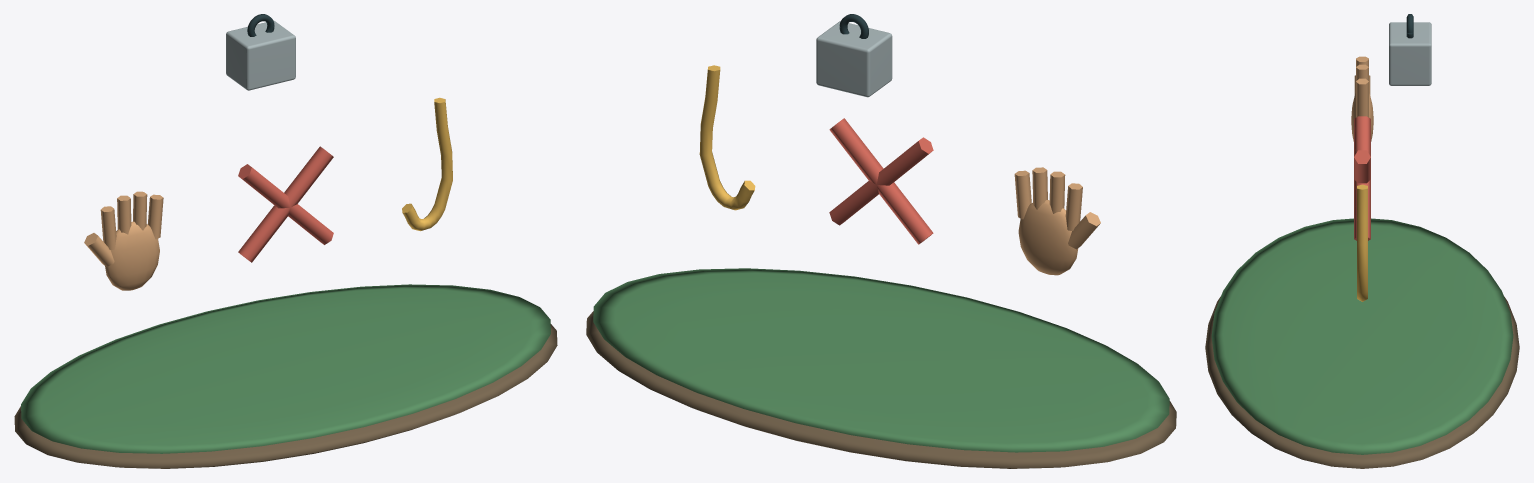
The model's file is complete-third-cannot-accept-finish.glb.
The picture shows the model from 3 angles, left to right: view 1: azimuth 30°, elevation 25°; view 2: azimuth 150°, elevation 25°; view 3: azimuth 270°, elevation 25°; orthographic projection. The views are drawn at different scales.
Parts seen in each view (by area): view 1: complete-third-cannot-accept-finish_surface_01, complete-third-cannot-accept-finish_surface_00, complete-third-cannot-accept-finish_surface_02, complete-third-cannot-accept-finish_surface_03, complete-third-cannot-accept-finish_surface_05, complete-third-cannot-accept-finish_surface_04; view 2: complete-third-cannot-accept-finish_surface_01, complete-third-cannot-accept-finish_surface_00, complete-third-cannot-accept-finish_surface_02, complete-third-cannot-accept-finish_surface_03, complete-third-cannot-accept-finish_surface_05, complete-third-cannot-accept-finish_surface_04; view 3: complete-third-cannot-accept-finish_surface_01, complete-third-cannot-accept-finish_surface_00, complete-third-cannot-accept-finish_surface_05, complete-third-cannot-accept-finish_surface_03, complete-third-cannot-accept-finish_surface_04, complete-third-cannot-accept-finish_surface_02.
Part boxes in pixels (<box>): complete-third-cannot-accept-finish_surface_01: <box>21,284,550,453</box>; complete-third-cannot-accept-finish_surface_00: <box>14,324,557,468</box>; complete-third-cannot-accept-finish_surface_02: <box>84,191,163,290</box>; complete-third-cannot-accept-finish_surface_03: <box>238,146,333,262</box>; complete-third-cannot-accept-finish_surface_05: <box>226,21,295,90</box>; complete-third-cannot-accept-finish_surface_04: <box>402,97,452,231</box>; complete-third-cannot-accept-finish_surface_01: <box>593,268,1169,452</box>; complete-third-cannot-accept-finish_surface_00: <box>586,311,1176,468</box>; complete-third-cannot-accept-finish_surface_02: <box>1014,167,1100,275</box>; complete-third-cannot-accept-finish_surface_03: <box>829,118,933,244</box>; complete-third-cannot-accept-finish_surface_05: <box>816,21,892,97</box>; complete-third-cannot-accept-finish_surface_04: <box>699,65,755,210</box>; complete-third-cannot-accept-finish_surface_01: <box>1211,218,1513,454</box>; complete-third-cannot-accept-finish_surface_00: <box>1205,296,1519,468</box>; complete-third-cannot-accept-finish_surface_05: <box>1389,22,1431,85</box>; complete-third-cannot-accept-finish_surface_03: <box>1354,116,1370,240</box>; complete-third-cannot-accept-finish_surface_04: <box>1357,184,1367,301</box>; complete-third-cannot-accept-finish_surface_02: <box>1351,56,1373,141</box>.
Bounding box in the file's own units: 4.56 × 3.05 × 2.5.
